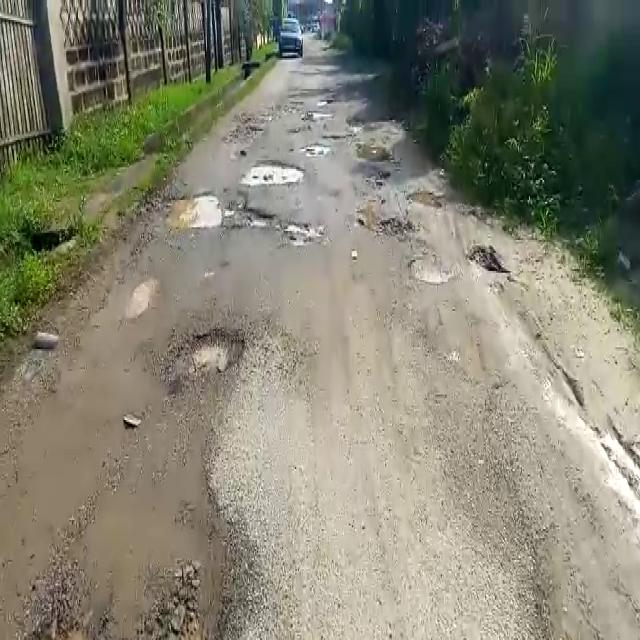Pothole: (164, 325, 249, 388), (168, 189, 278, 235), (241, 157, 307, 186), (282, 216, 326, 246)
